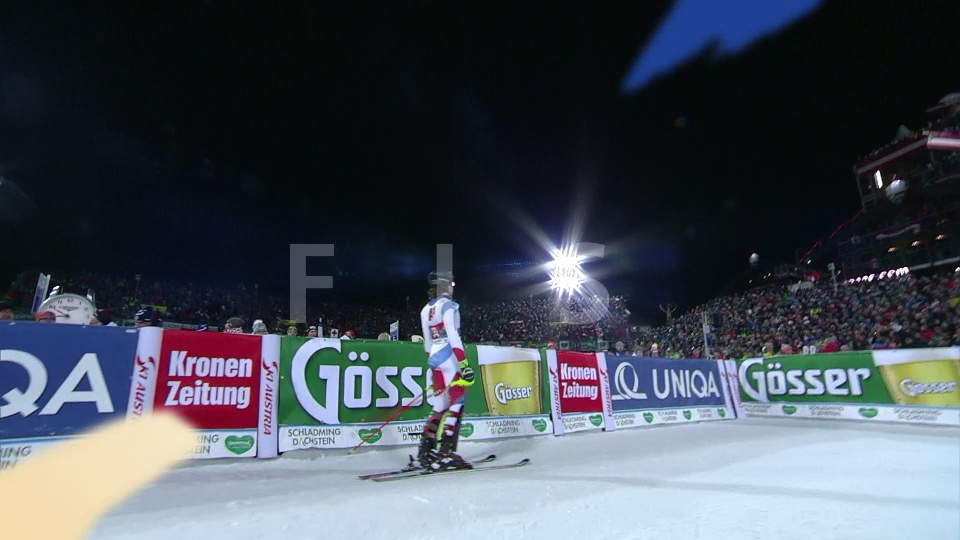a1: (428, 305, 441, 321)
goesser: (293, 340, 485, 418), (735, 351, 889, 408), (891, 367, 959, 402), (488, 374, 540, 410)
kronenzeitung: (157, 342, 265, 418), (559, 360, 599, 408)
schladming: (282, 429, 346, 447), (483, 419, 532, 435)
steiermark: (224, 433, 252, 454), (353, 429, 385, 443), (586, 411, 603, 428)
uniqa: (609, 359, 724, 407)
